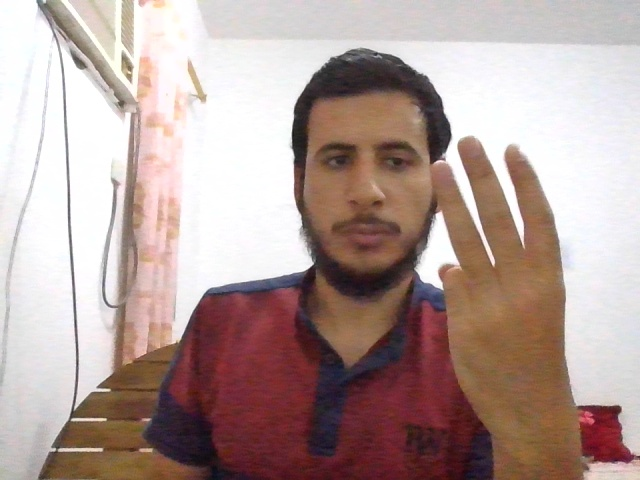Three: (431, 135, 579, 424)
